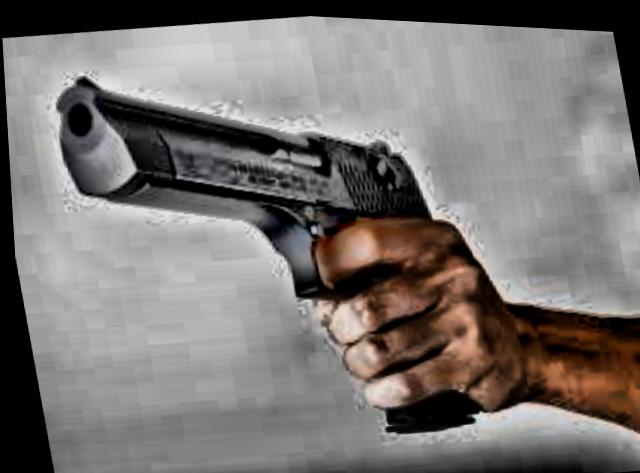pistol: (41, 27, 492, 464)
